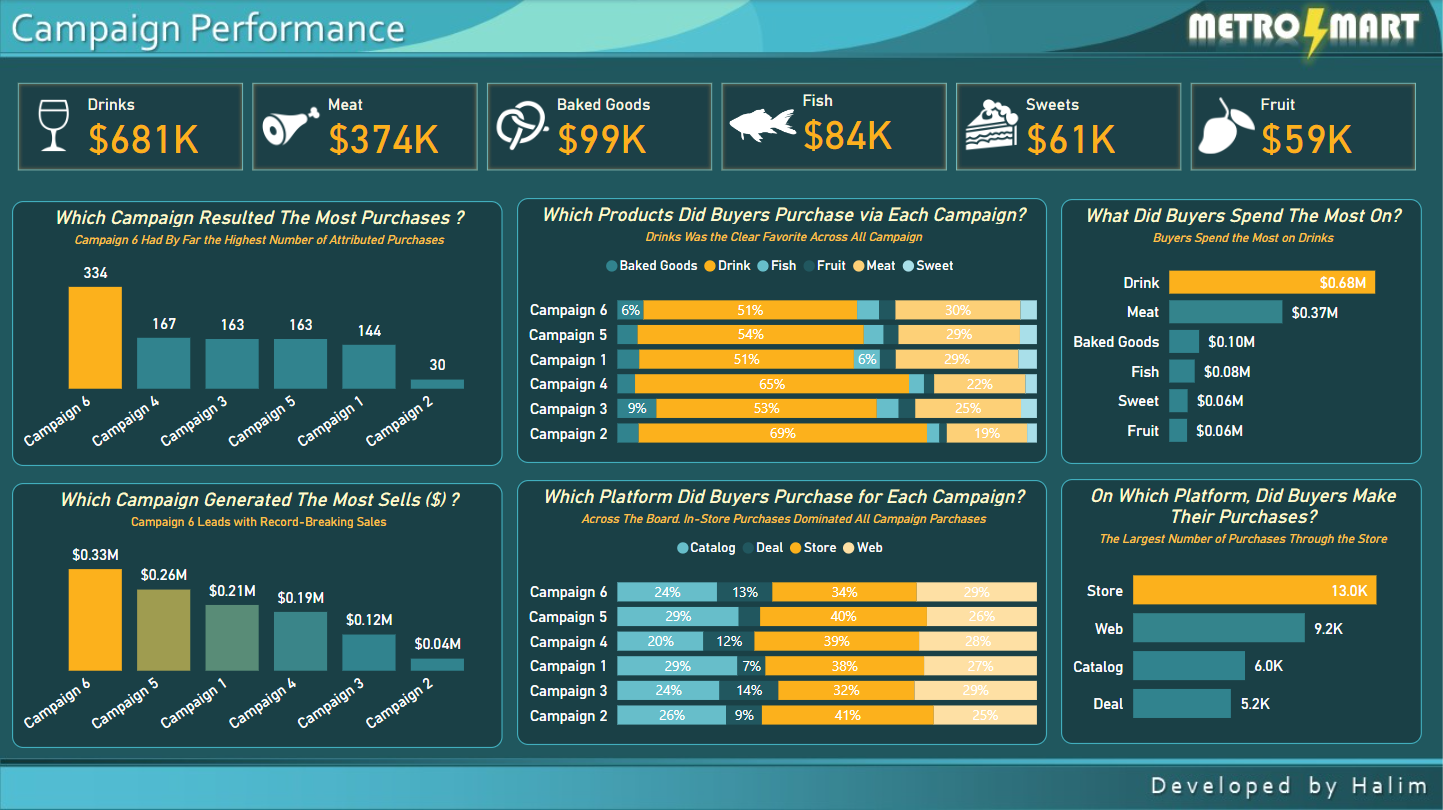

The page's visual inventory and layout, read from the dashboard file:
{"tool":"powerbi","page":{"name":"Campaign Performance","canvas":[1280,720],"ordinal":0},"visuals":[{"type":"clusteredColumnChart","title":"Which Campaign Resulted The Most Purchases ?","fields":{"Category":["Campaign.Campaign"],"Y":["Sum(Campaign.Accepted_Ind)"]},"box":[10.9,178.1,435.5,235.5],"z":0},{"type":"clusteredColumnChart","title":"Which Campaign Generated The Most Sells ($) ?","fields":{"Y":["Sum(Products.Sales)"],"Category":["Campaign.Campaign"]},"box":[10.9,428.1,435.5,235.5],"z":1000},{"type":"hundredPercentStackedBarChart","title":"Which Products Did Buyers Purchase via Each Campaign?","fields":{"Y":["Sum(Products.Sales)"],"Category":["Campaign.Campaign"],"Series":["Products.Product"]},"box":[458.6,175.4,470,235.5],"z":2000},{"type":"clusteredBarChart","title":"What Did Buyers Spend The Most On?","fields":{"Category":["Products.Product"],"Y":["Sum(Products.Sales)"]},"box":[940.9,176.3,320,235.5],"z":3000},{"type":"hundredPercentStackedBarChart","title":"Which Platform Did Buyers Purchase for Each Campaign?","fields":{"Category":["Campaign.Campaign"],"Y":["Sum(Platform.Qty)"],"Series":["Platform.Platform"]},"box":[458.6,425.4,470,235.5],"z":4000},{"type":"clusteredBarChart","title":"On Which Platform, Did Buyers Make Their Purchases?","fields":{"Category":["Platform.Platform"],"Y":["Sum(Platform.Qty)"]},"box":[940.9,424.5,320,235.5],"z":5000},{"type":"cardVisual","fields":{"Data":["Sum(1 2 marketmindz_research_data.Amount_Wine_Products)","Sum(1 2 marketmindz_research_data.Amount_Meat_Products)","Sum(1 2 marketmindz_research_data.Amount_Baked_Products)","Sum(1 2 marketmindz_research_data.Amount_Fish_Products)","Sum(1 2 marketmindz_research_data.Amount_Sweet_Products)","Sum(1 2 marketmindz_research_data.Amount_Fruit_Products)"]},"box":[10.6,68.3,1250.2,88.7],"z":6000}]}

Visuals, with their boxes in screenshot pixels (x1, y1, x2, y2), scaled from the page's 1280x720 canvas onto the 1443x810 screenshot:
"Which Campaign Resulted The Most Purchases ?" clusteredColumnChart: (12,200,503,465)
"Which Campaign Generated The Most Sells ($) ?" clusteredColumnChart: (12,482,503,747)
"Which Products Did Buyers Purchase via Each Campaign?" hundredPercentStackedBarChart: (517,197,1047,462)
"What Did Buyers Spend The Most On?" clusteredBarChart: (1061,198,1421,463)
"Which Platform Did Buyers Purchase for Each Campaign?" hundredPercentStackedBarChart: (517,479,1047,744)
"On Which Platform, Did Buyers Make Their Purchases?" clusteredBarChart: (1061,478,1421,742)
cardVisual - Sum(1 2 marketmindz_research_data.Amount_Wine_Products) x Sum(1 2 marketmindz_research_data.Amount_Meat_Products): (12,77,1421,177)
